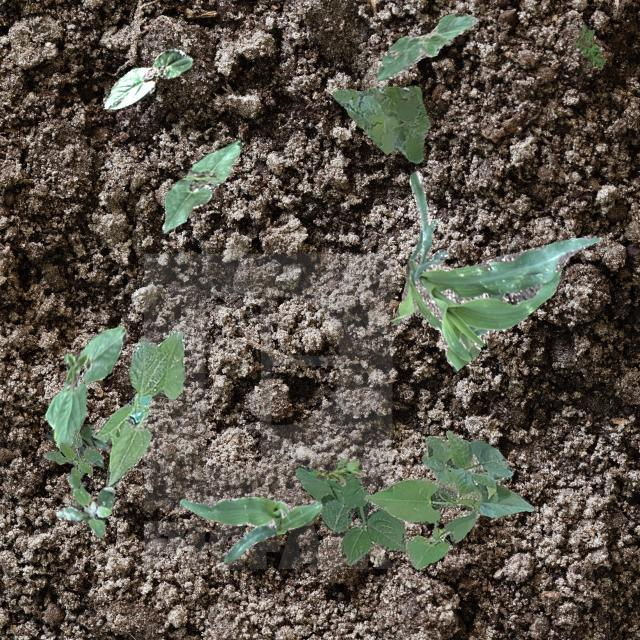crop: (390, 170, 600, 370), (363, 429, 532, 568), (92, 330, 184, 488), (44, 324, 124, 450), (178, 496, 324, 562), (160, 138, 240, 232), (376, 12, 476, 78), (102, 48, 192, 108)
weed: (293, 466, 405, 564), (332, 84, 429, 162), (54, 472, 114, 536), (42, 427, 102, 488), (44, 424, 108, 466), (310, 456, 362, 486), (574, 23, 604, 68)
